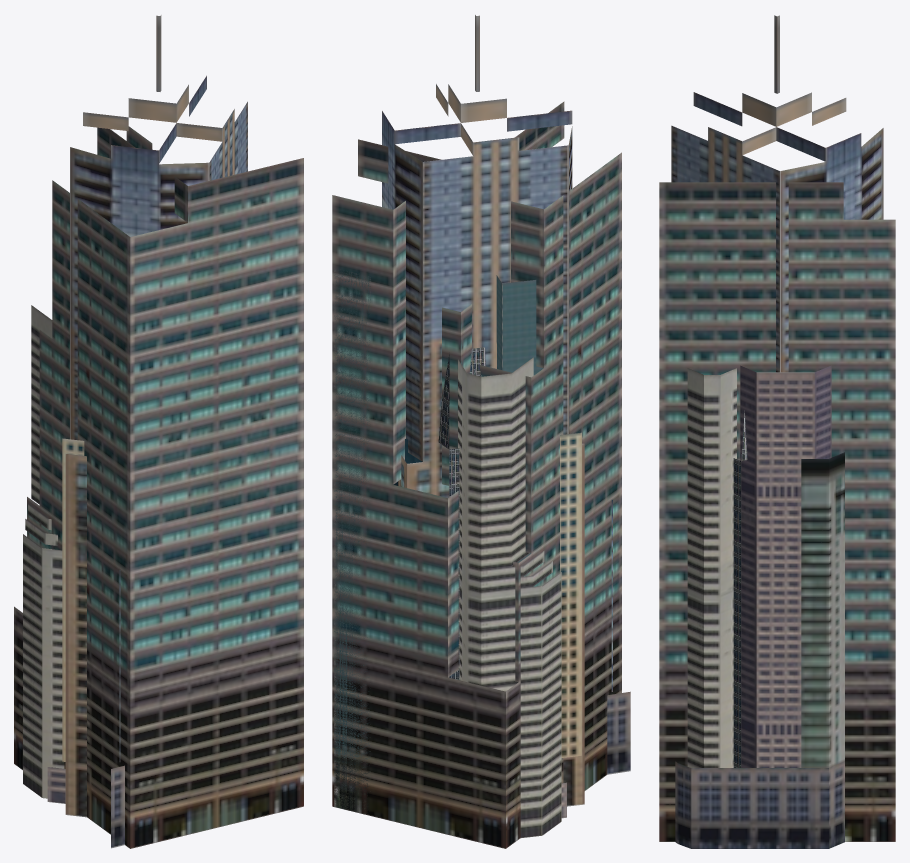
File: towers_b.glb
3 renders of one model, left to right at view 1: azimuth 30°, elevation 25°; view 2: azimuth 150°, elevation 25°; view 3: azimuth 270°, elevation 25°, orthographic.
Visible parts, largest first — view 1: towers_b_78, towers_b_39, towers_b_70, towers_b_50, towers_b_82, towers_b_44; view 2: towers_b_78, towers_b_39, towers_b_70, towers_b_28, towers_b_50, towers_b_82, towers_b_62; view 3: towers_b_78, towers_b_82, towers_b_44, towers_b_70, towers_b_39, towers_b_62.
Part boxes in pixels (x1,y1,x2,y2): towers_b_78: (14, 126, 303, 848); towers_b_39: (65, 15, 247, 817); towers_b_70: (23, 305, 64, 798); towers_b_50: (62, 438, 84, 761); towers_b_82: (111, 570, 124, 848); towers_b_44: (47, 767, 65, 803); towers_b_78: (332, 101, 621, 848); towers_b_39: (382, 15, 584, 806); towers_b_70: (458, 357, 561, 837); towers_b_28: (334, 268, 543, 813); towers_b_50: (393, 432, 581, 757); towers_b_82: (607, 499, 630, 774); towers_b_62: (438, 347, 485, 680); towers_b_78: (659, 182, 895, 841); towers_b_82: (675, 452, 844, 848); towers_b_44: (740, 365, 831, 767); towers_b_70: (687, 368, 736, 767); towers_b_39: (671, 15, 883, 372); towers_b_62: (733, 410, 747, 767).
Bounding box in the file's own units: 1.3 × 4.76 × 1.3.
8 materials, 8 textured.
